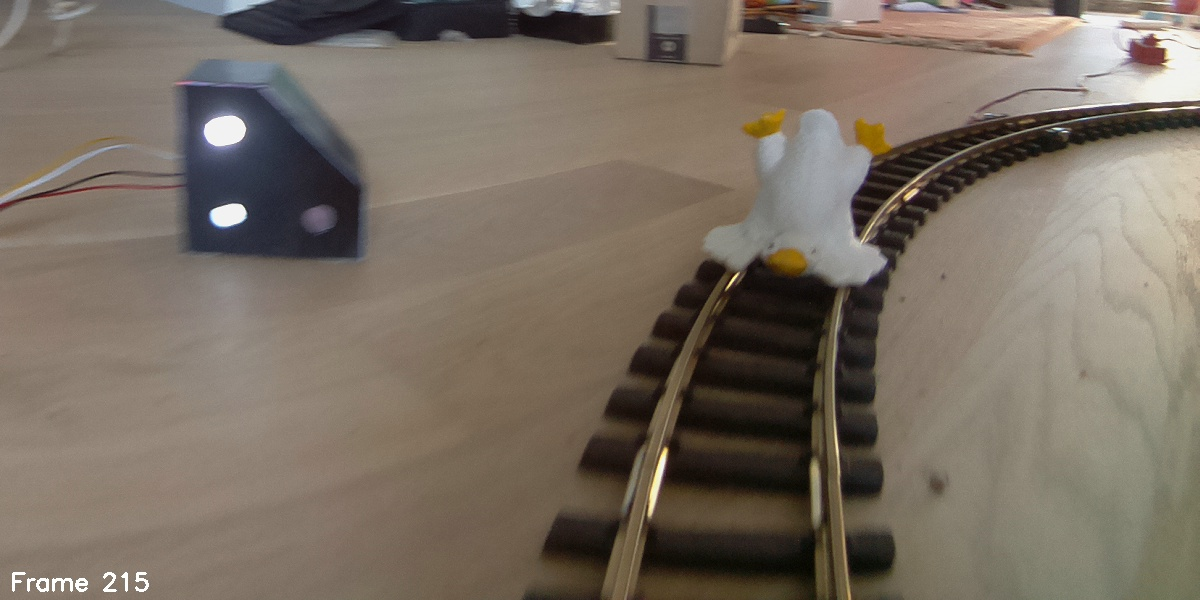Ente: (700, 101, 889, 287)
Fahrt: (179, 59, 363, 256)
